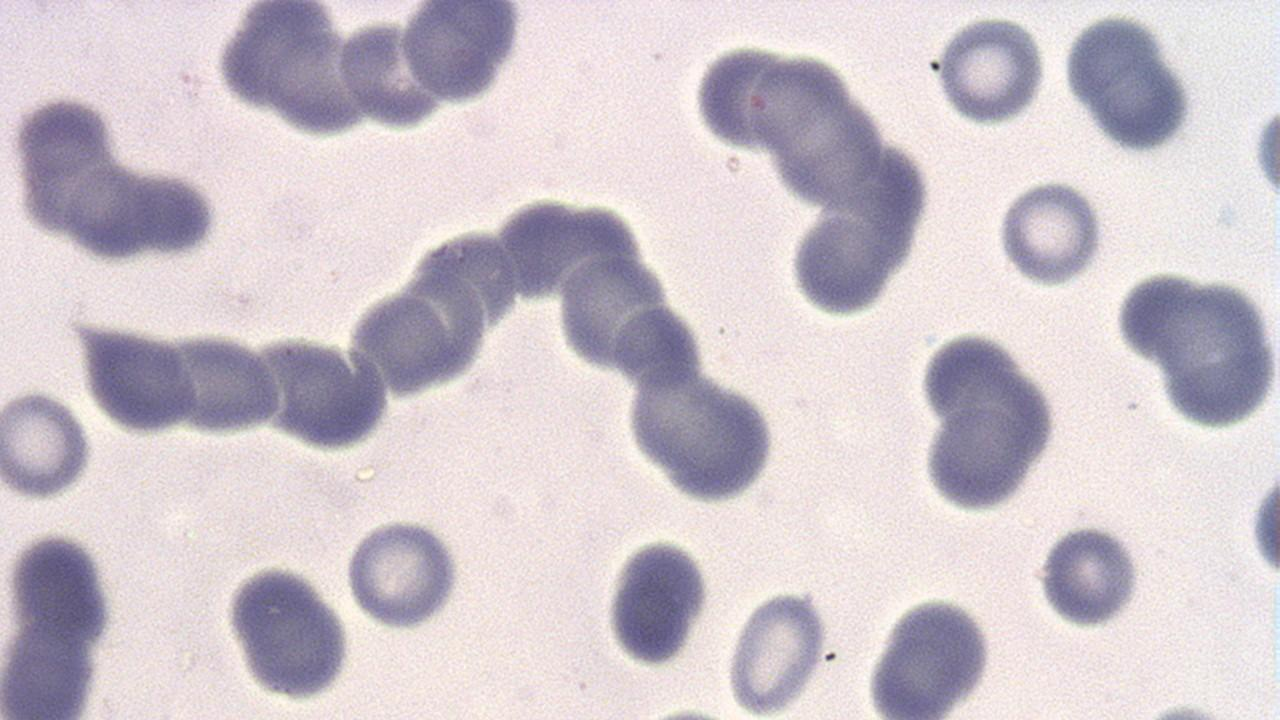Platelets: (222, 558, 355, 706), (343, 514, 470, 635), (600, 534, 712, 671), (1031, 518, 1149, 630), (1249, 461, 1279, 586), (1250, 102, 1280, 212)
RBC: (0, 1, 339, 438), (1150, 271, 1278, 434), (342, 514, 460, 634), (394, 1, 522, 108), (81, 318, 197, 436), (930, 12, 1048, 127), (993, 176, 1107, 292), (168, 326, 280, 439), (0, 386, 96, 501), (245, 325, 332, 446), (0, 620, 103, 719)
WBC: (677, 0, 1280, 720), (314, 123, 796, 678), (12, 0, 662, 340), (150, 0, 575, 159), (911, 321, 1061, 514), (1143, 268, 1279, 435), (622, 369, 778, 504), (1059, 8, 1199, 158), (220, 558, 356, 702), (858, 589, 996, 717), (782, 202, 921, 322), (3, 526, 124, 656), (342, 512, 462, 632), (400, 1, 526, 107), (1248, 448, 1280, 595), (1251, 87, 1279, 221)
